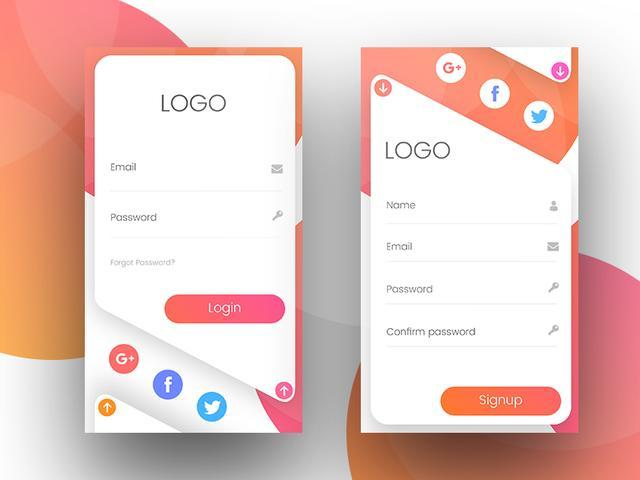button: (164, 294, 288, 327), (441, 386, 563, 417)
icon: (546, 240, 563, 256), (272, 209, 287, 226), (548, 277, 561, 296), (271, 162, 286, 177), (548, 323, 561, 339), (548, 199, 561, 214)
